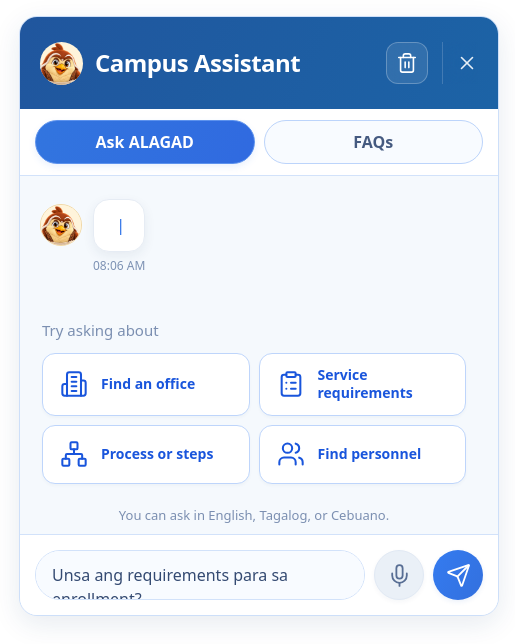
Test case: Chatbot voice review and automatic language selection › allows editing a mixed-language transcript and only submits through the existing Send action
Replace the text in the text box with "Unsa ang requirements para sa enrollment sa BukSU?" at (200, 575), box x1=35 y1=550 x2=365 y2=600
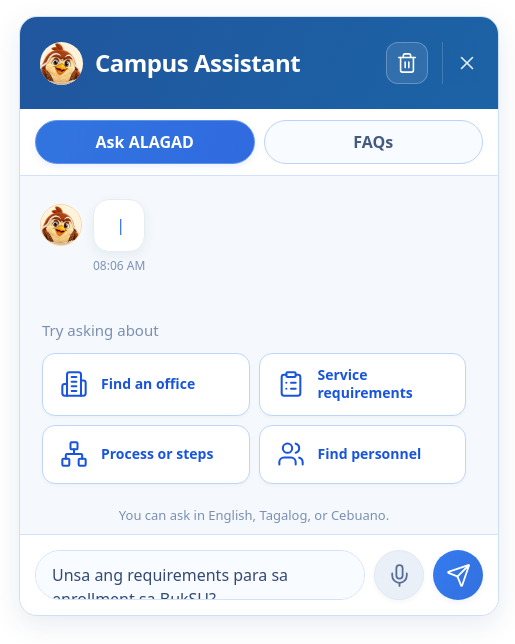
Press Enter in the text box, box x1=35 y1=550 x2=365 y2=600
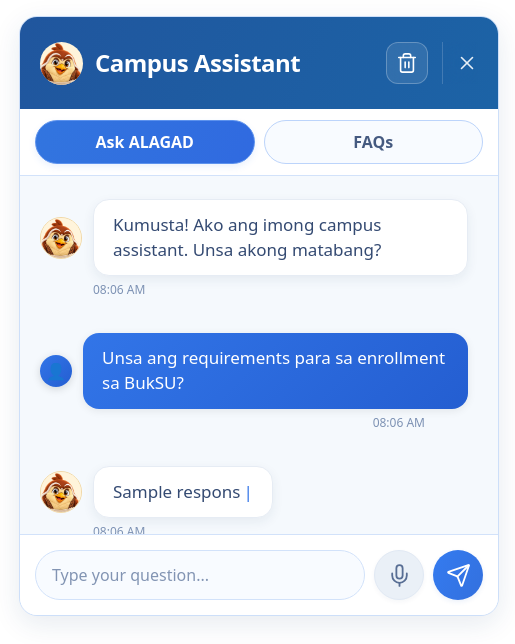
expect the text "Unsa ang requirements para sa enrollment sa BukSU?" is shown: met, box x1=83 y1=333 x2=468 y2=409
